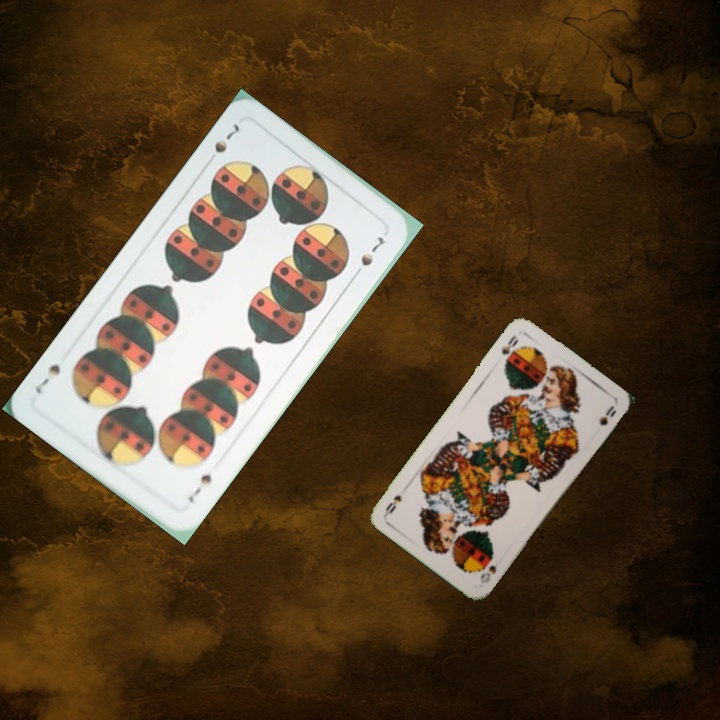S7: (210, 118, 242, 156), (184, 470, 214, 506)
SO: (476, 551, 499, 586), (497, 331, 521, 358)
